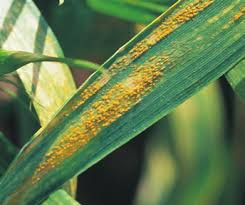Leaf Rust: (54, 46, 169, 160)
